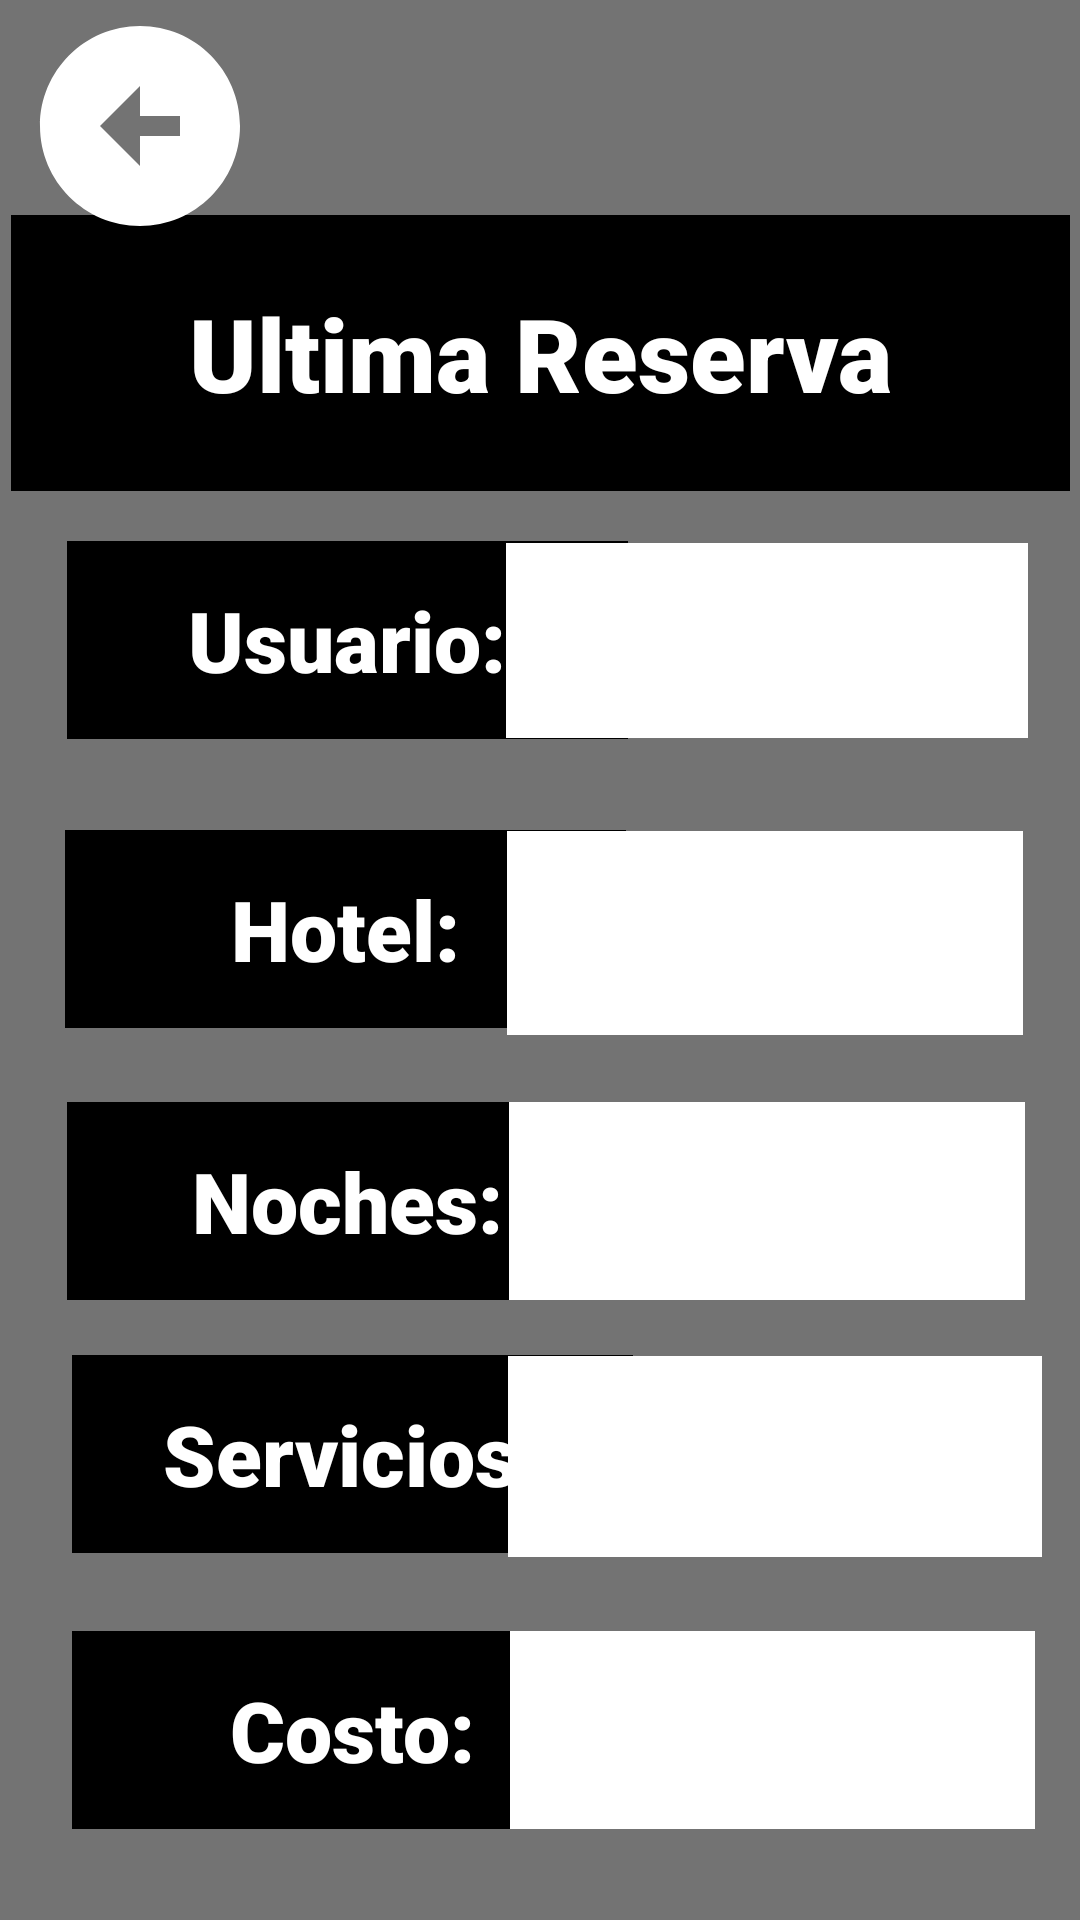

Icon click points for this 1080px×1920px phone screenshot, format (x,y):
Volver: (139,126)
